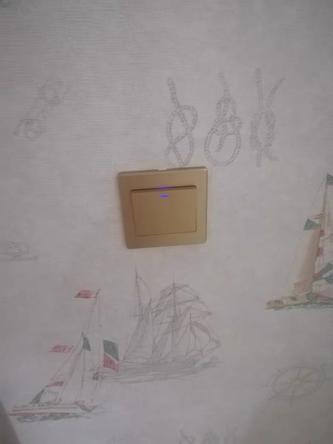switch: (131, 191, 208, 239)
